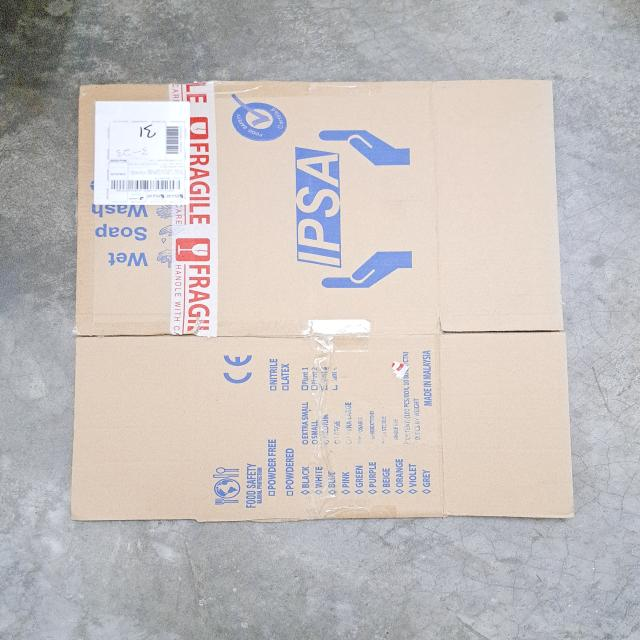cardboard: (75, 82, 579, 526)
